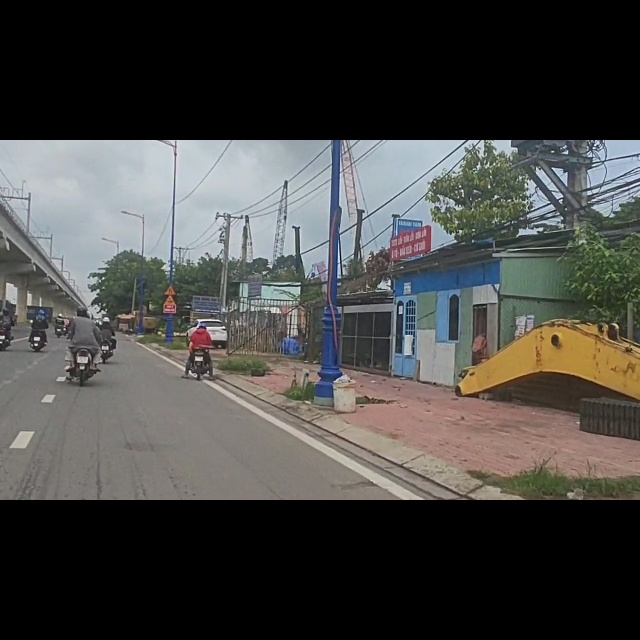bien_nguy_hiem: (165, 257, 177, 275), (164, 276, 176, 290)
